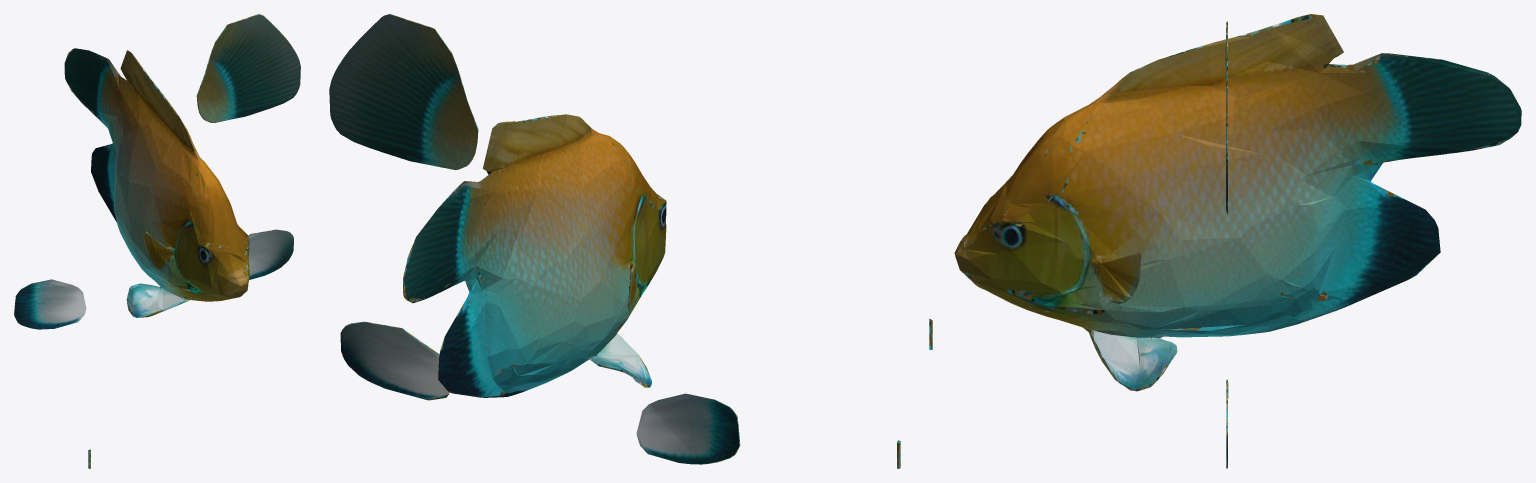
Rendered from fish_0024_smpl23_resized.glb.
3 views of the same model, side by side, from view 1: azimuth 30°, elevation 25°; view 2: azimuth 150°, elevation 25°; view 3: azimuth 270°, elevation 25° (orthographic). The views are drawn at different scales.
Visible parts, largest first — view 1: world; view 2: world; view 3: world.
Boxes of the visible parts, x1,y1,x2,y2 form: world: (14,14,300,468); world: (329,14,900,468); world: (929,14,1521,468).
Bounding box in the file's own units: 1.87 × 1.89 × 1.98.
Materials: 1 (1 with a texture image).
